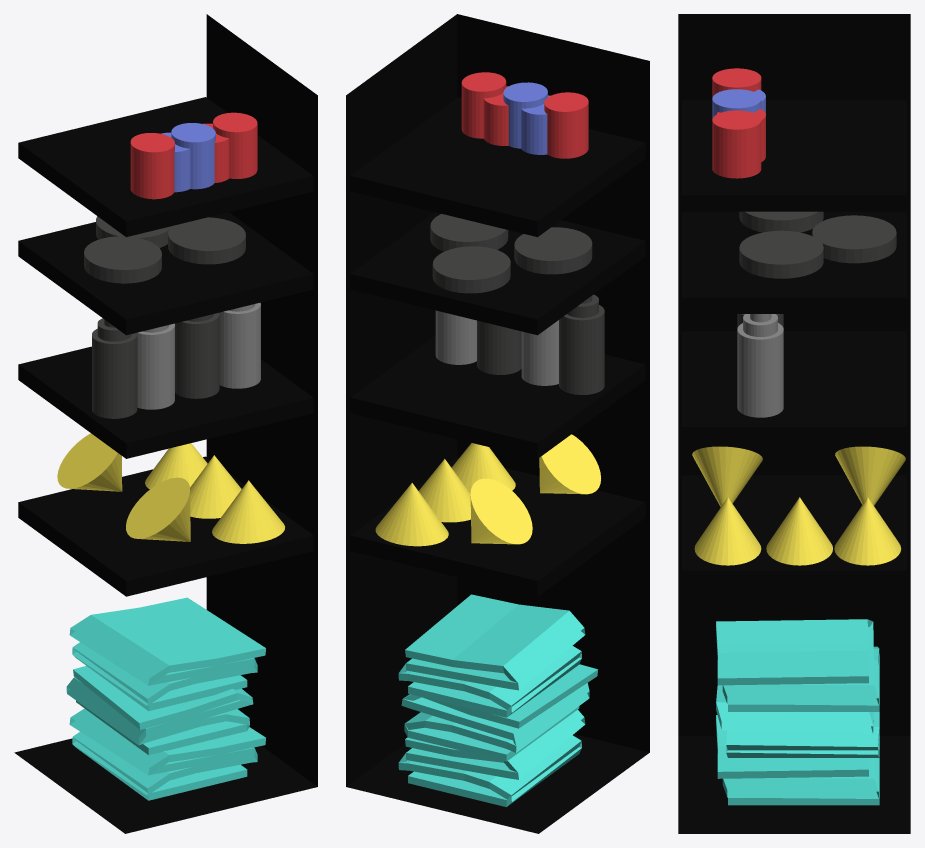
File: Medicin _Cabinet.fbx
3 views of the same model, side by side, from view 1: azimuth 30°, elevation 25°; view 2: azimuth 150°, elevation 25°; view 3: azimuth 270°, elevation 25° (orthographic). The views are drawn at different scales.
Visible parts, largest first — view 1: Cylinder.001; view 2: Cylinder.001; view 3: Cylinder.001.
Part boxes in pixels (bbox=[...]): Cylinder.001: bbox=[14, 14, 317, 833]; Cylinder.001: bbox=[346, 14, 649, 833]; Cylinder.001: bbox=[678, 14, 910, 833].
Size of the model in its own units: 200 by 686 by 200.
